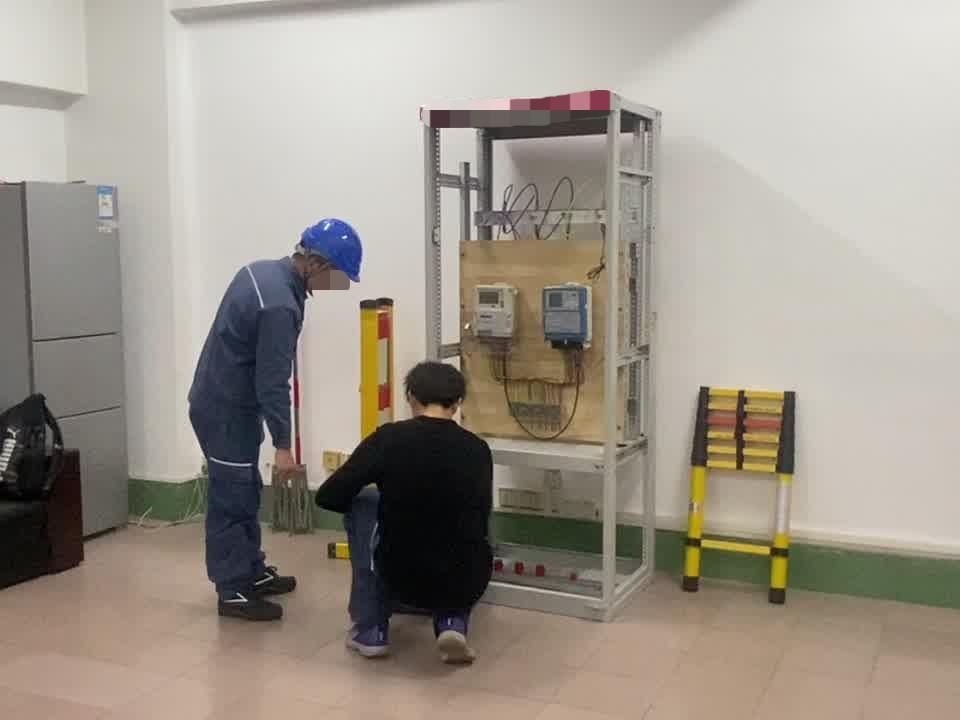halt: (297, 220, 367, 300)
inear: (304, 257, 331, 290)
unhalt: (406, 363, 470, 419)
